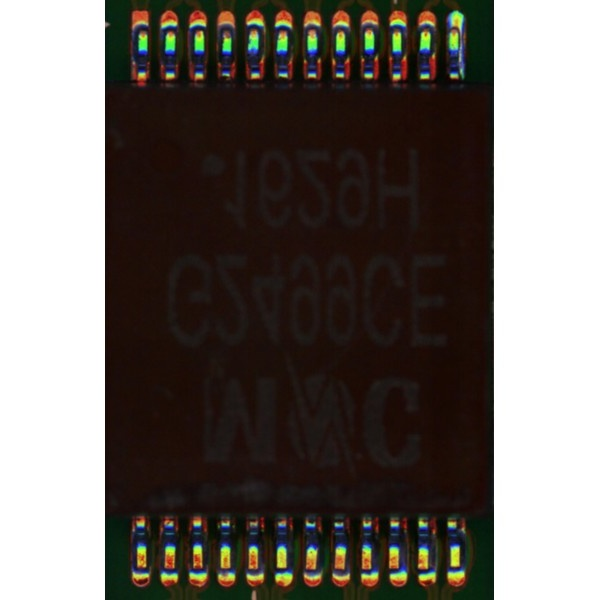Bad_podu: (451, 20, 460, 36)
Bad_qiaojiao: (458, 33, 464, 80)
